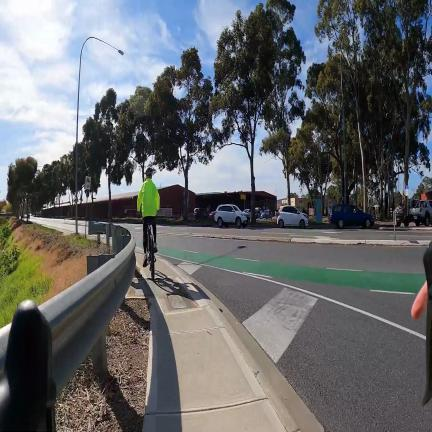Bike_Sign: (85, 176, 91, 190)
Green_Bike_Lane: (162, 248, 424, 293)
